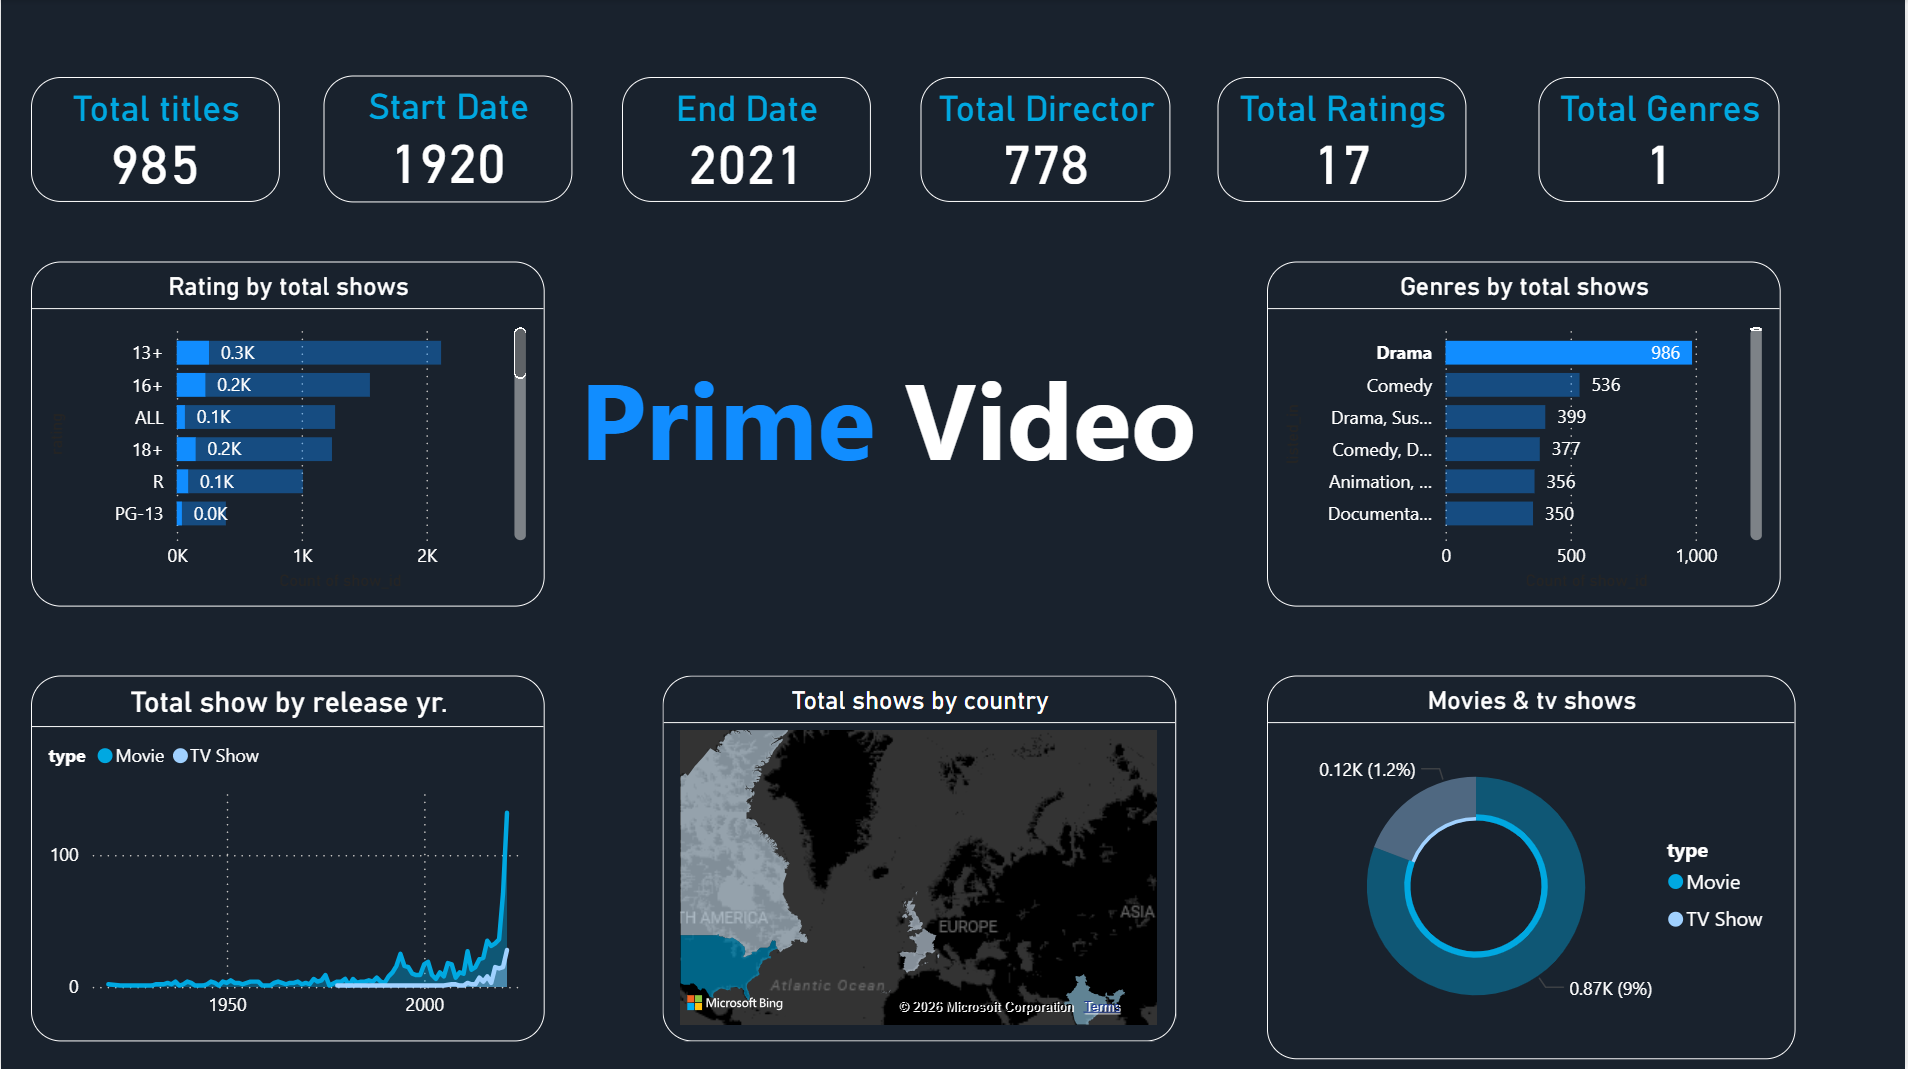

What the dashboard file says about the page in this screenshot:
{"tool":"powerbi","page":{"name":"Page 1","canvas":[1280,720],"ordinal":0},"visuals":[{"type":"filledMap","title":"Total shows by country","fields":{"Category":["amazon_prime_titles.country"]},"box":[445,455,345,246],"z":0},{"type":"donutChart","title":"Movies & tv shows","fields":{"Category":["amazon_prime_titles.type"],"Y":["CountNonNull(amazon_prime_titles.show_id)"]},"box":[851,455,355,258],"z":1},{"type":"areaChart","title":"Total show by release yr.","fields":{"Category":["amazon_prime_titles.release_year"],"Y":["CountNonNull(amazon_prime_titles.show_id)"],"Series":["amazon_prime_titles.type"]},"box":[20,455,345,246],"z":2},{"type":"barChart","title":"Rating by total shows","fields":{"Category":["amazon_prime_titles.rating"],"Y":["CountNonNull(amazon_prime_titles.show_id)"]},"box":[20,176,345,232],"z":4},{"type":"barChart","title":"Genres by total shows","fields":{"Y":["CountNonNull(amazon_prime_titles.show_id)"],"Category":["amazon_prime_titles.listed_in"]},"box":[851,176,345,232],"z":5},{"type":"card","title":"Total titles","fields":{"Values":["Count(amazon_prime_titles.title)"]},"box":[20,52,167,84],"z":6},{"type":"card","title":"Total Ratings","fields":{"Values":["Count(amazon_prime_titles.rating)"]},"box":[818,52,167,84],"z":7},{"type":"card","title":"Total Genres","fields":{"Values":["Count(amazon_prime_titles.listed_in)"]},"box":[1034,52,162,84],"z":8},{"type":"card","title":"Total Director","fields":{"Values":["Count(amazon_prime_titles.director)"]},"box":[618,52,168,84],"z":9},{"type":"card","title":"Start Date","fields":{"Values":["Min(amazon_prime_titles.release_year)"]},"box":[217,51,167,85],"z":10},{"type":"card","title":"End Date","fields":{"Values":["Max(amazon_prime_titles.release_year)"]},"box":[417,52,167,84],"z":11},{"type":"textbox","box":[384,227,434,117],"z":12}]}

Visuals, with their boxes in screenshot pixels (x1, y1, x2, y2), scaled from the page's 1280x720 canvas onto the 1908x1069 screenshot:
"Total shows by country" filledMap: [663, 676, 1178, 1041]
"Movies & tv shows" donutChart: [1269, 676, 1798, 1059]
"Total show by release yr." areaChart: [30, 676, 544, 1041]
"Rating by total shows" barChart: [30, 261, 544, 606]
"Genres by total shows" barChart: [1269, 261, 1783, 606]
"Total titles" card: [30, 77, 279, 202]
"Total Ratings" card: [1219, 77, 1468, 202]
"Total Genres" card: [1541, 77, 1783, 202]
"Total Director" card: [921, 77, 1172, 202]
"Start Date" card: [323, 76, 572, 202]
"End Date" card: [622, 77, 871, 202]
textbox: [572, 337, 1219, 511]
